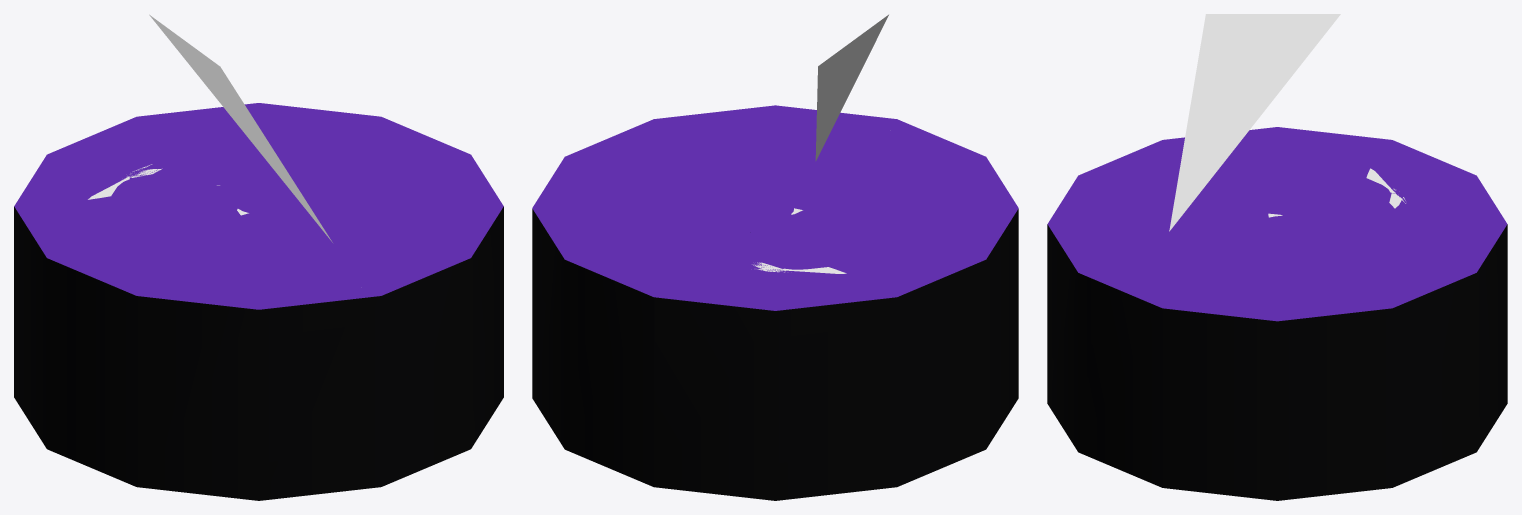
File: test_subject.fbx
3 views of the same model, side by side, from view 1: azimuth 30°, elevation 25°; view 2: azimuth 150°, elevation 25°; view 3: azimuth 270°, elevation 25° (orthographic). The views are drawn at different scales.
Visible parts, largest first — view 1: Model; view 2: Model; view 3: Model.
Part boxes in pixels (left/top/right/bottom): Model: left=14, top=14, right=503, bottom=500; Model: left=532, top=14, right=1018, bottom=500; Model: left=1047, top=14, right=1507, bottom=500.
Size of the model in its own units: 904 by 769 by 904.
